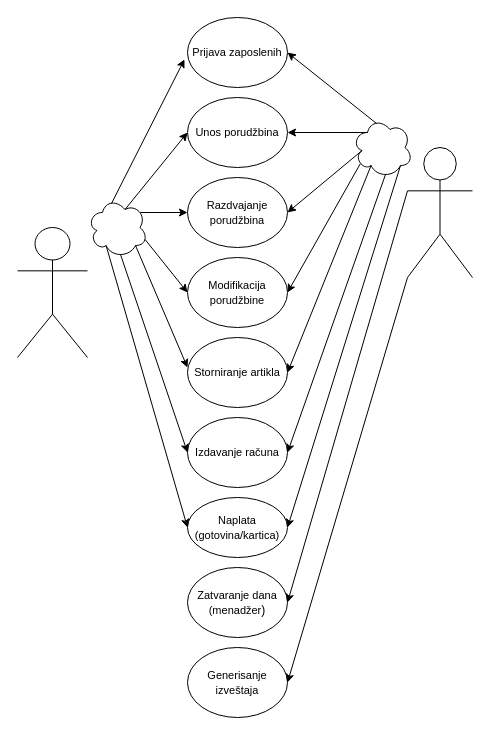
This 490x735 diagram has some shape labels left out. Here are the shapes that lost their labels. From the top down, the centre of each, then its label:
(439,212): Menadzer
(52,292): Konobar
